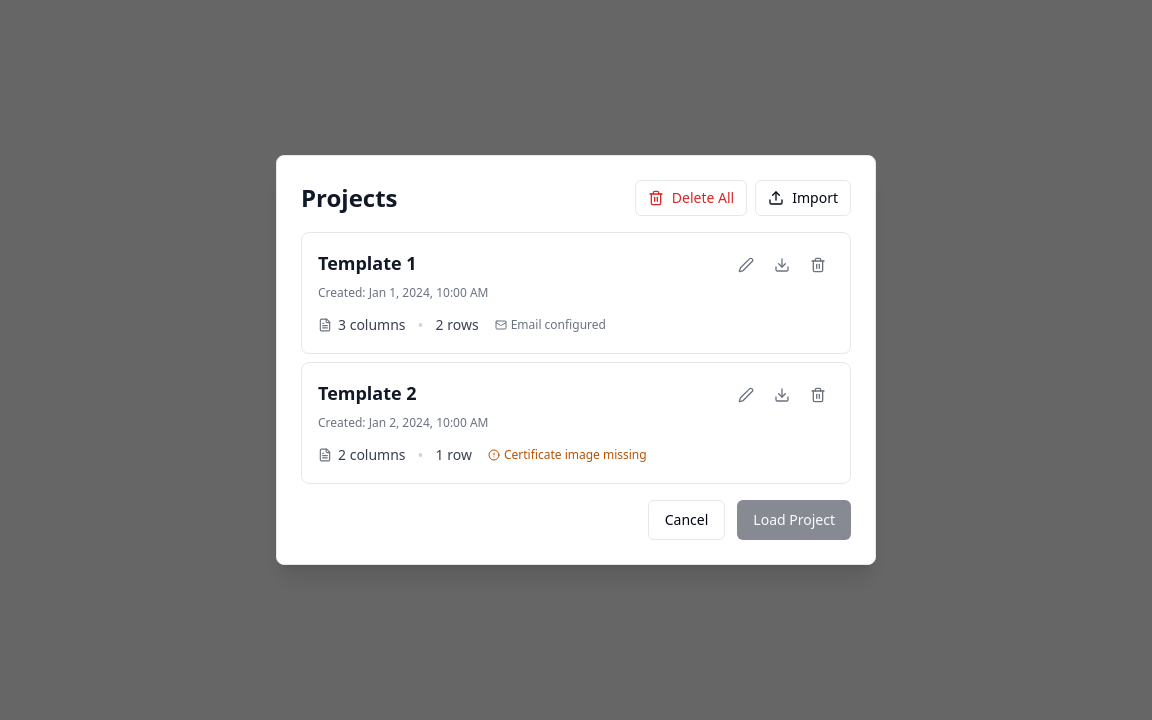
Test: LoadProjectModal › handles load template error
Click the list item "Template 1" at (576, 293), box [301,232,851,354]
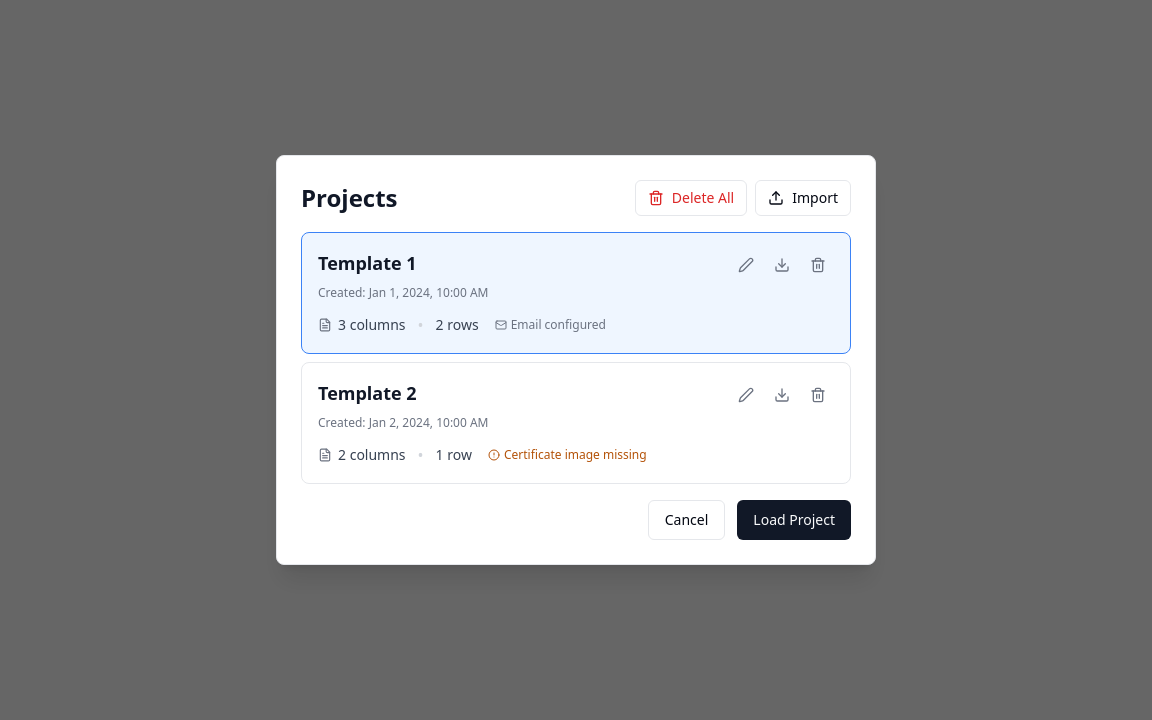
Click the button "Load Project" at (794, 520), box [737,500,851,540]
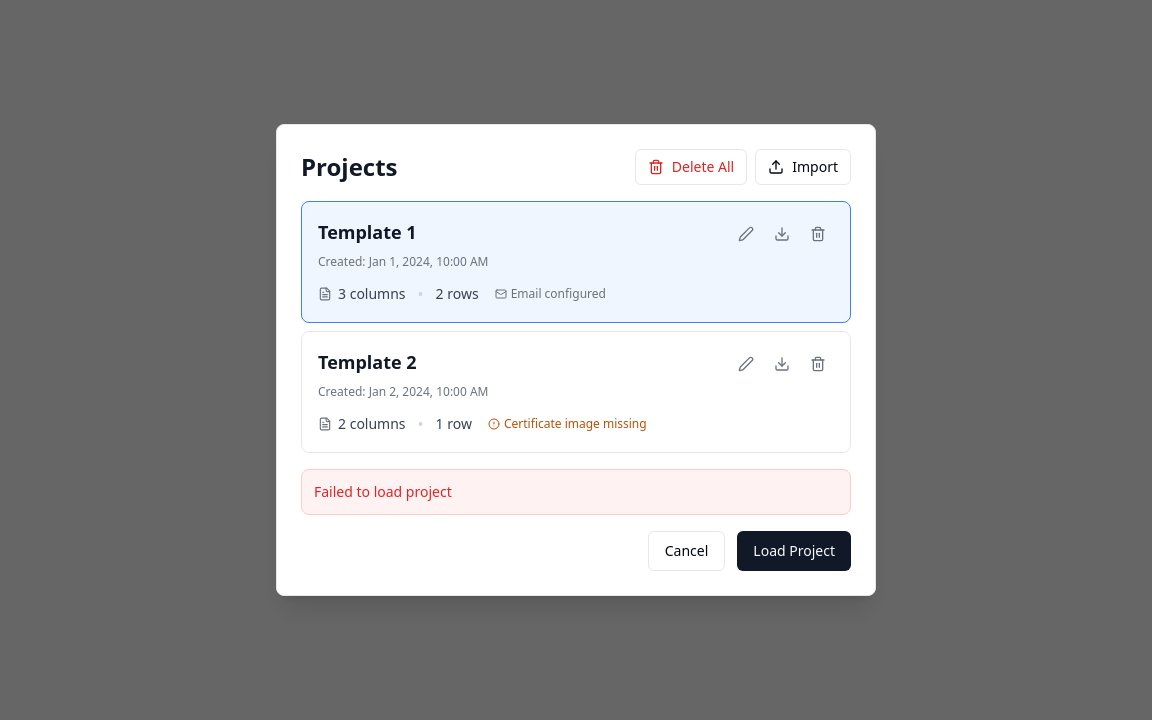
Result: the text "Failed to load project" is shown at [314,482,452,501]
